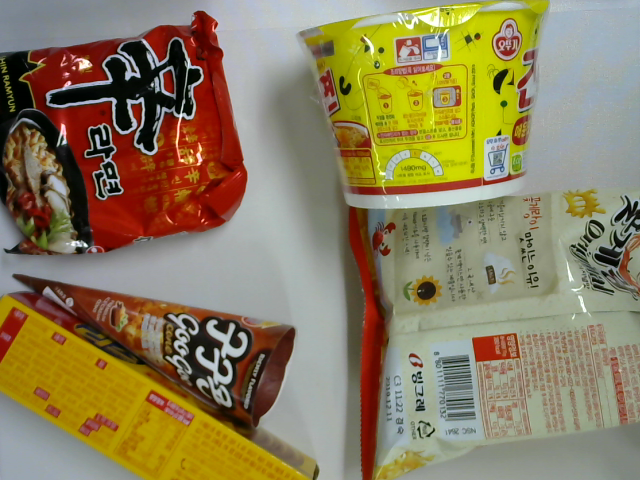Crabrang: (344, 186, 640, 480)
GooGoo_Cone_CVS: (11, 272, 297, 430)
Jinlamyeon_Hot_Taste_Large_Cup: (297, 1, 549, 212)
Ritz_Sand_Cracker: (1, 289, 319, 480)
Sinramen: (1, 10, 251, 258)
